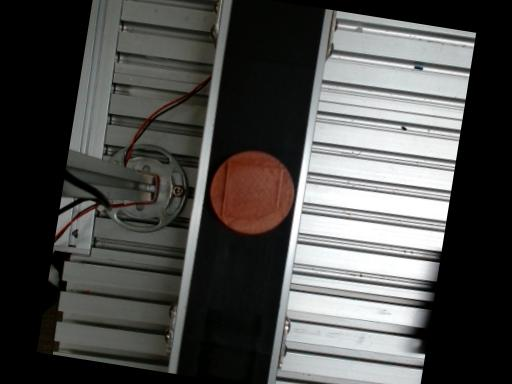Brown_Waper: (210, 149, 294, 233)
Not_Square: (220, 160, 283, 219)
